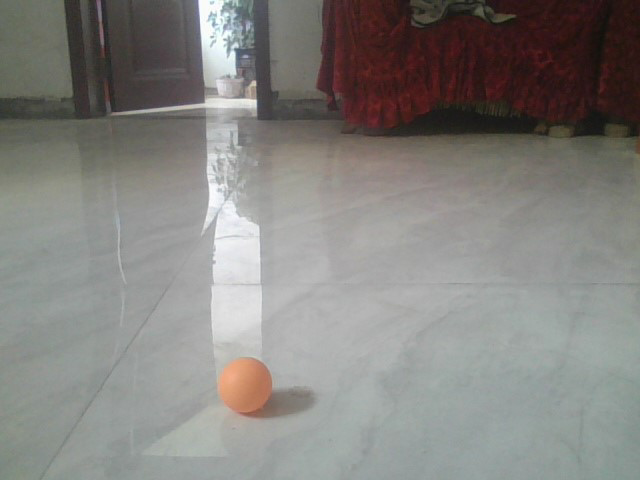ball: (219, 355, 274, 416)
